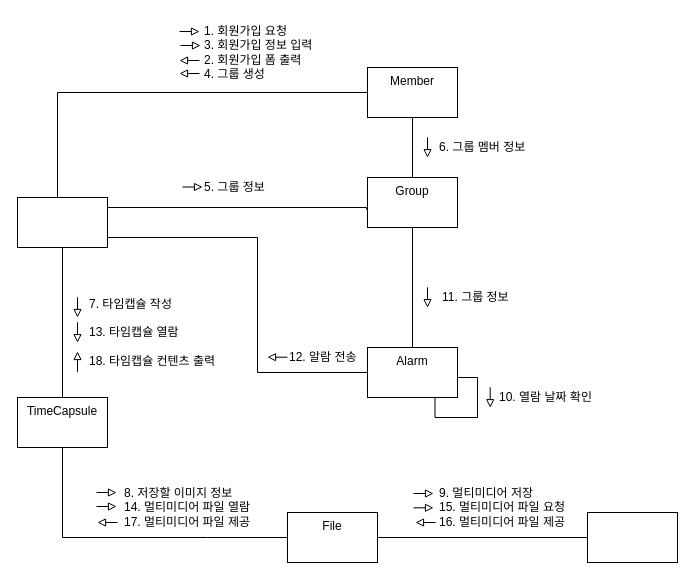
Image size: 695x580. Some labels were removed from this diagram. Here are the shapes that lost their labels. From the top down, the centre of each, then its label:
the point at 62,222: : 사용자
the point at 632,537: FileStore
